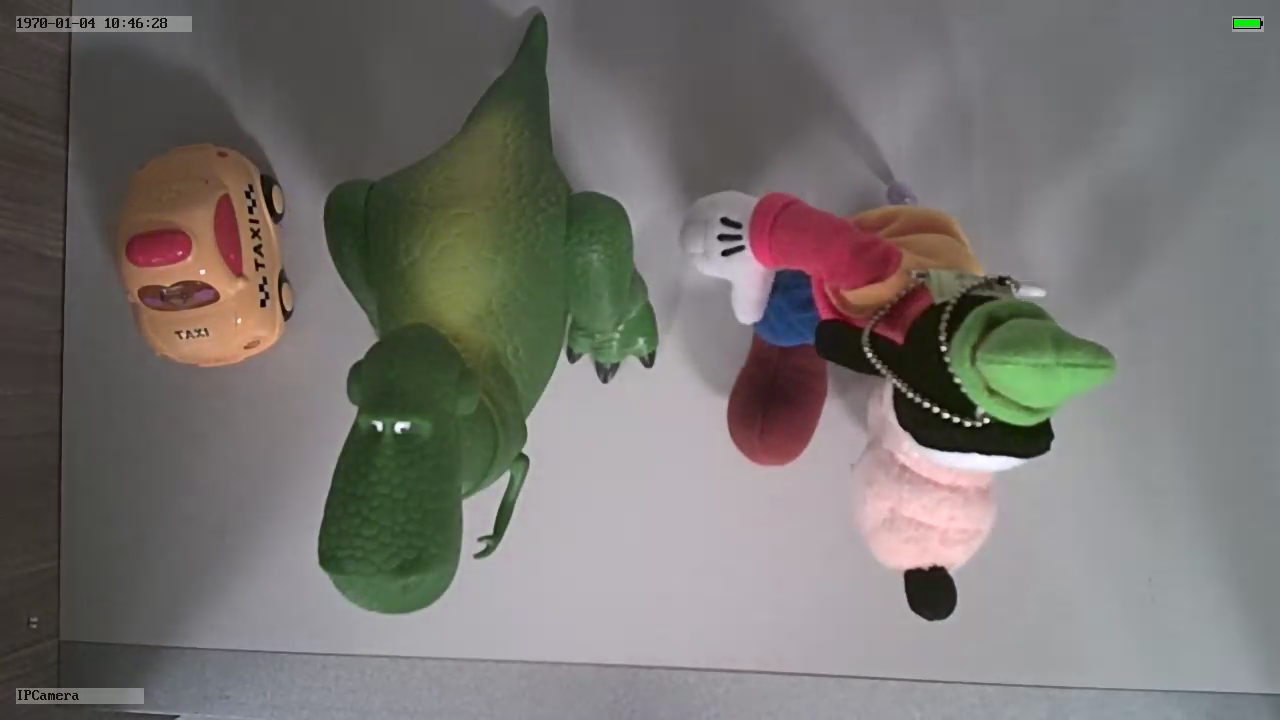goofy: (679, 185, 1122, 624)
